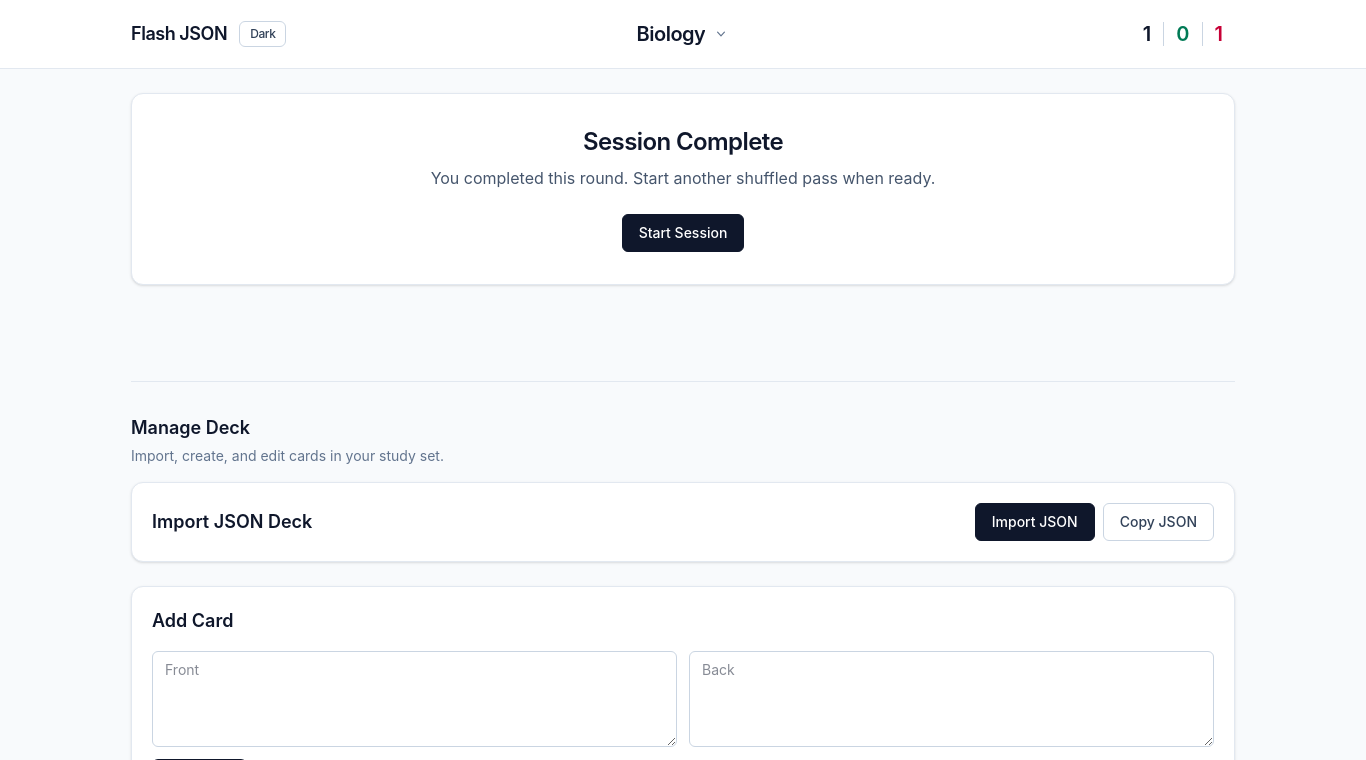
Test: FlashcardApp with study sets › switches sets from the header dropdown
The width and height of the screenshot is (1366, 760).
What coordinates should you click on to do the following:
click the button with aria-label "Study set:"
I would click on:
 (683, 34)
Its box is [625,16,741,52].
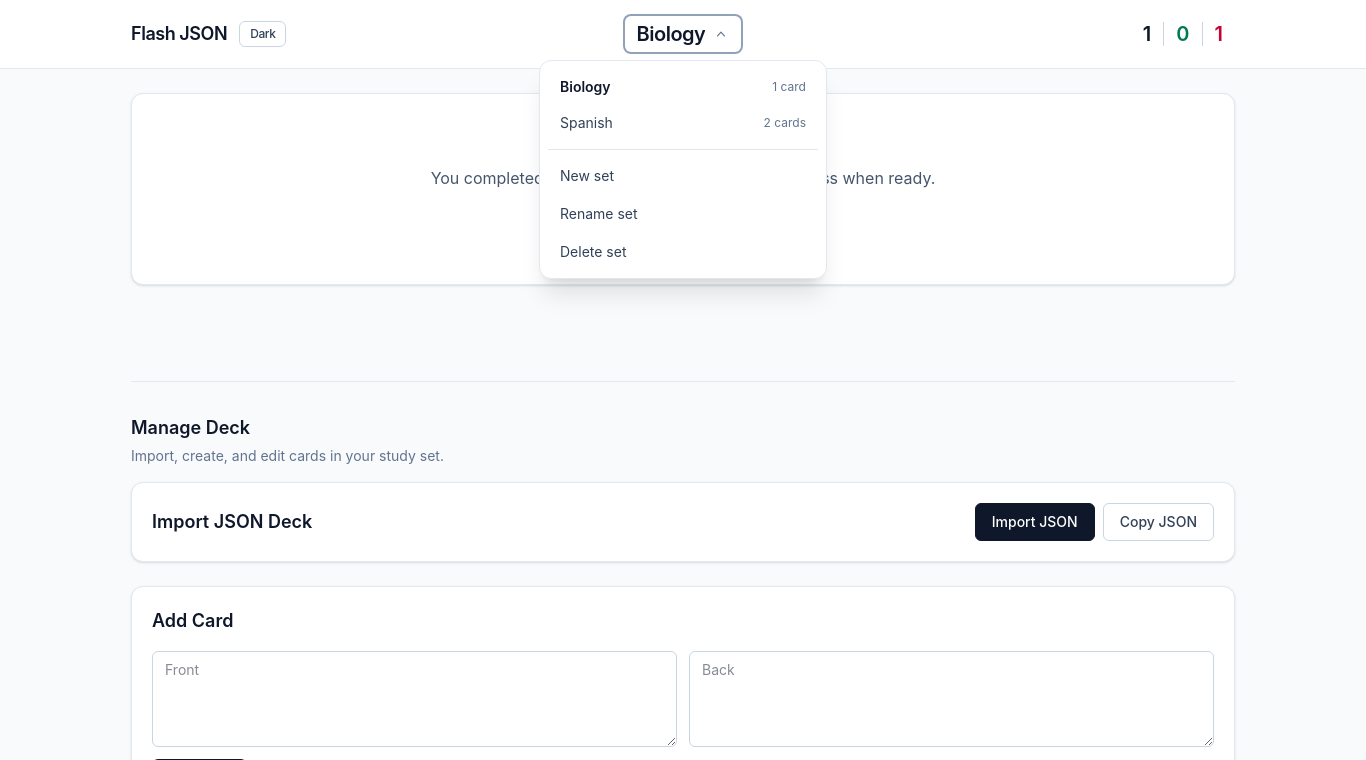
What coordinates should you click on to do the following:
click the button "Spanish 2 cards"
I would click on:
 (586, 122)
Its box is [548,105,818,141].
(page scrolled)
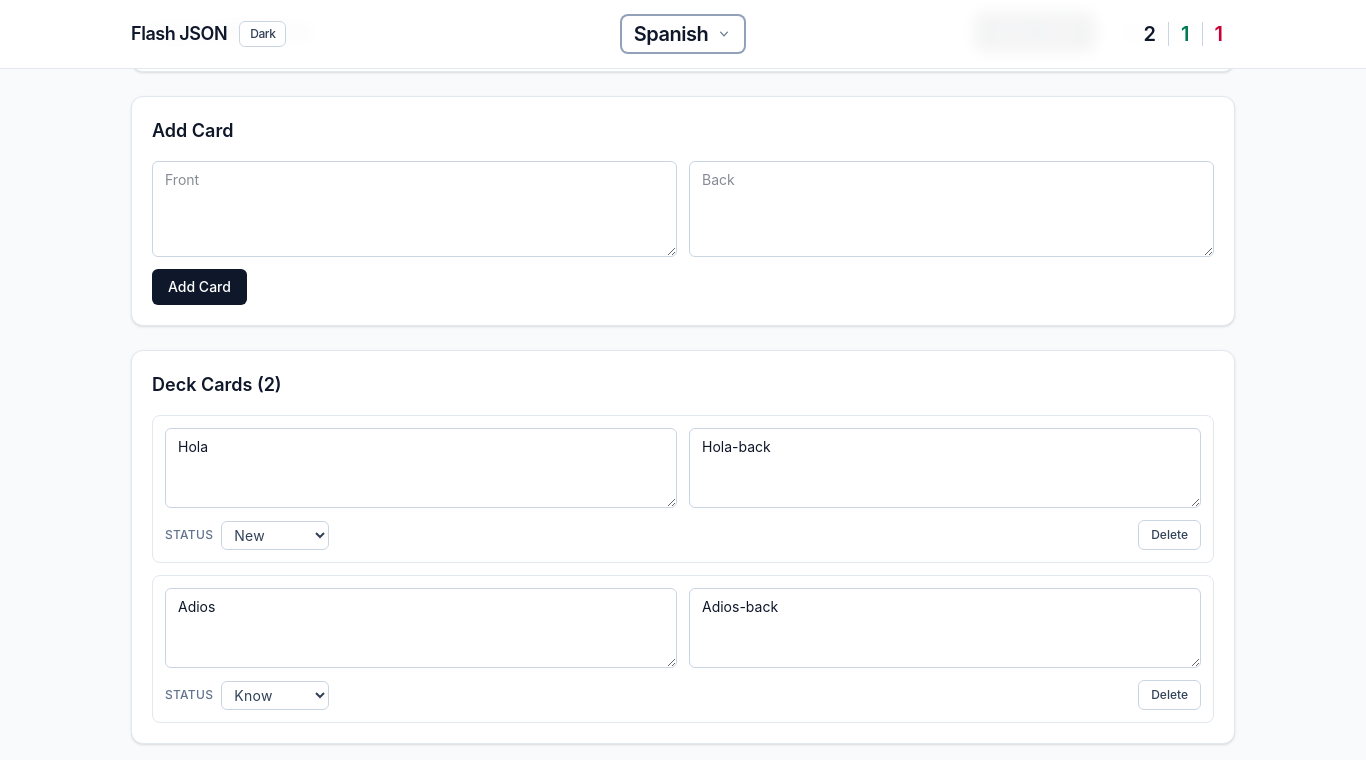
Now the button with aria-label "Study set:" reads "Spanish", box [622,16,744,52]
Now the button with aria-label "Study set:" is collapsed, box [622,16,744,52]
Now the heading "Deck Cards (2)" is shown, box [152,374,282,395]
